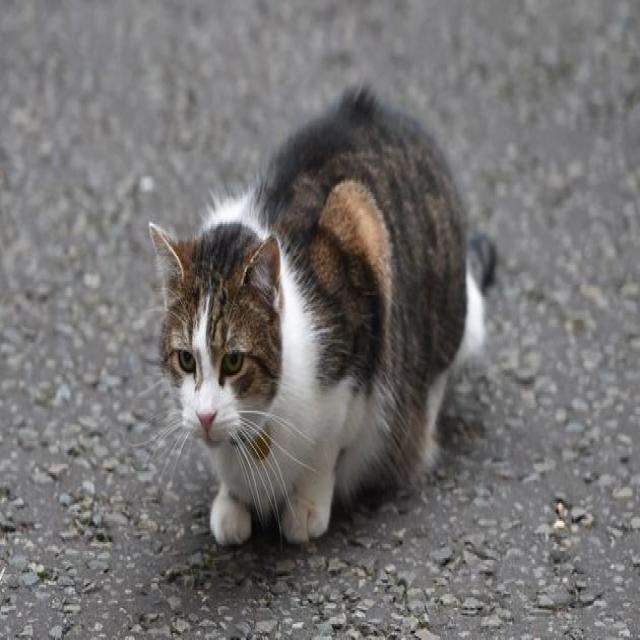cat: (102, 42, 546, 588)
